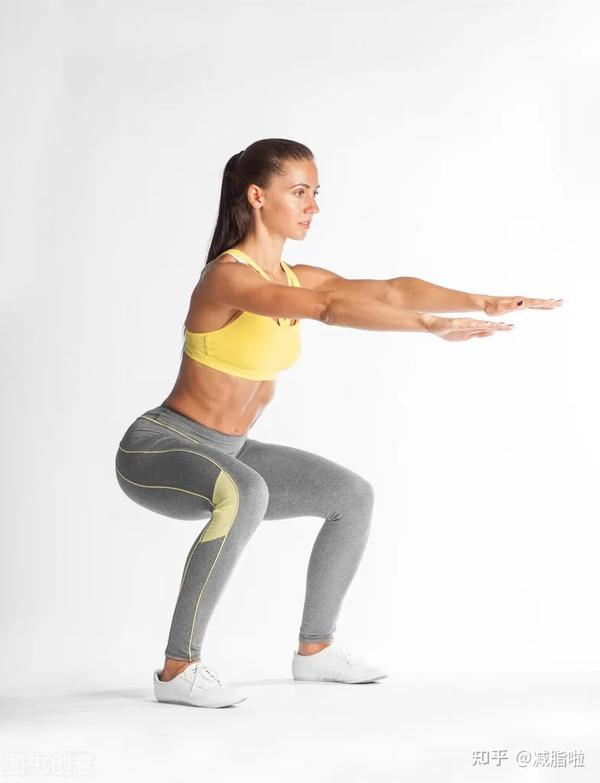Squat: (116, 126, 579, 716)
